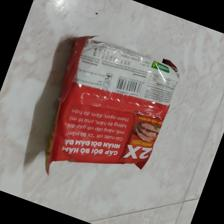3mien: (44, 35, 180, 179)
